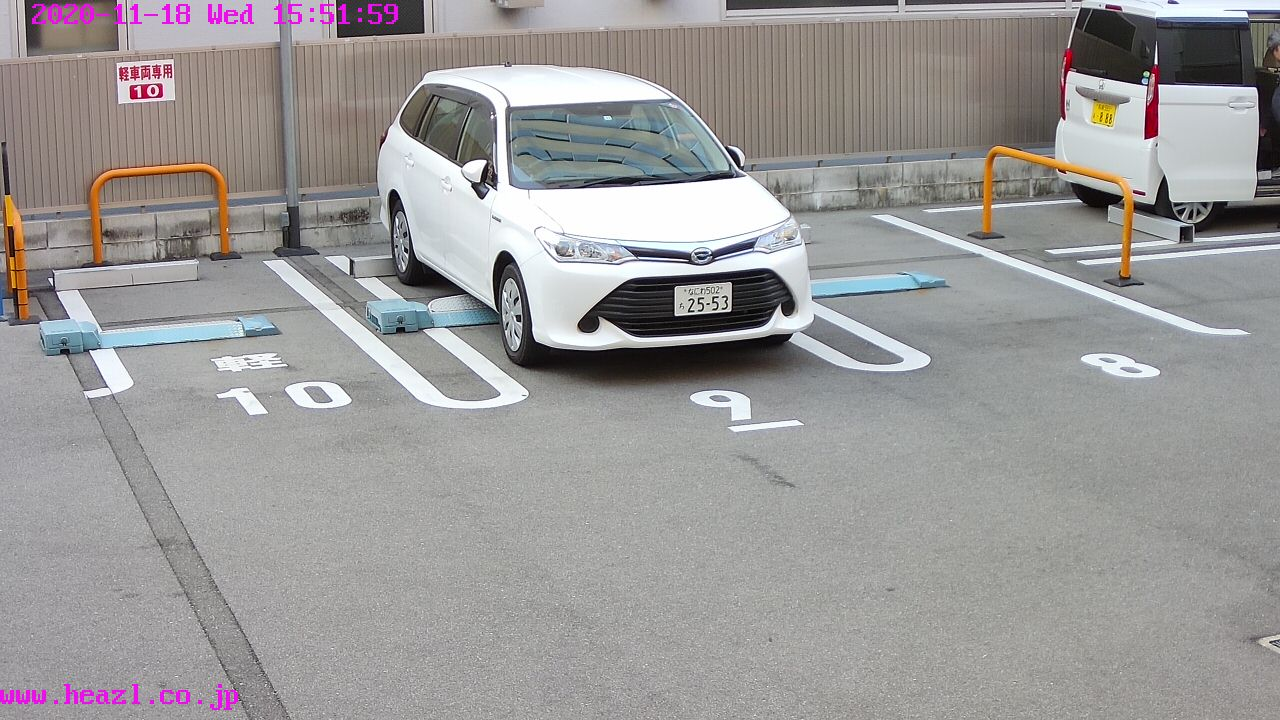number_plate: (674, 283, 733, 312), (1089, 95, 1116, 128)
